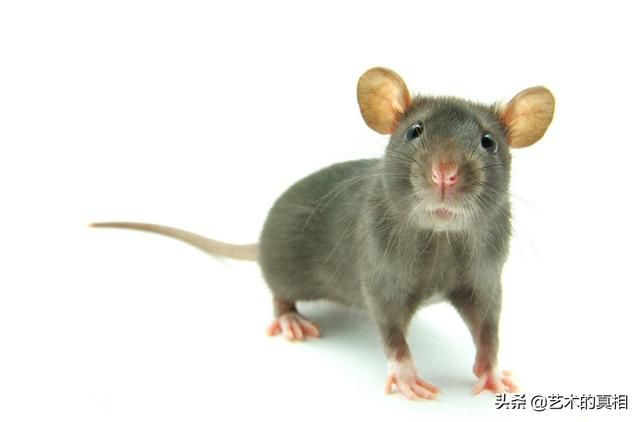mouse: (274, 54, 553, 393)
